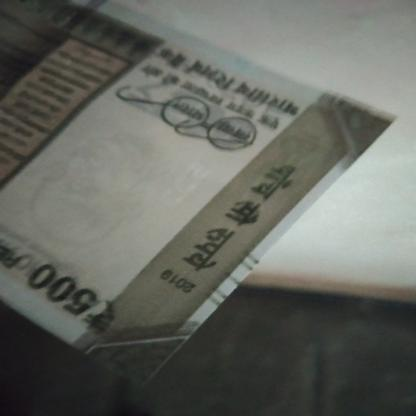New500Back: (0, 0, 336, 338)
